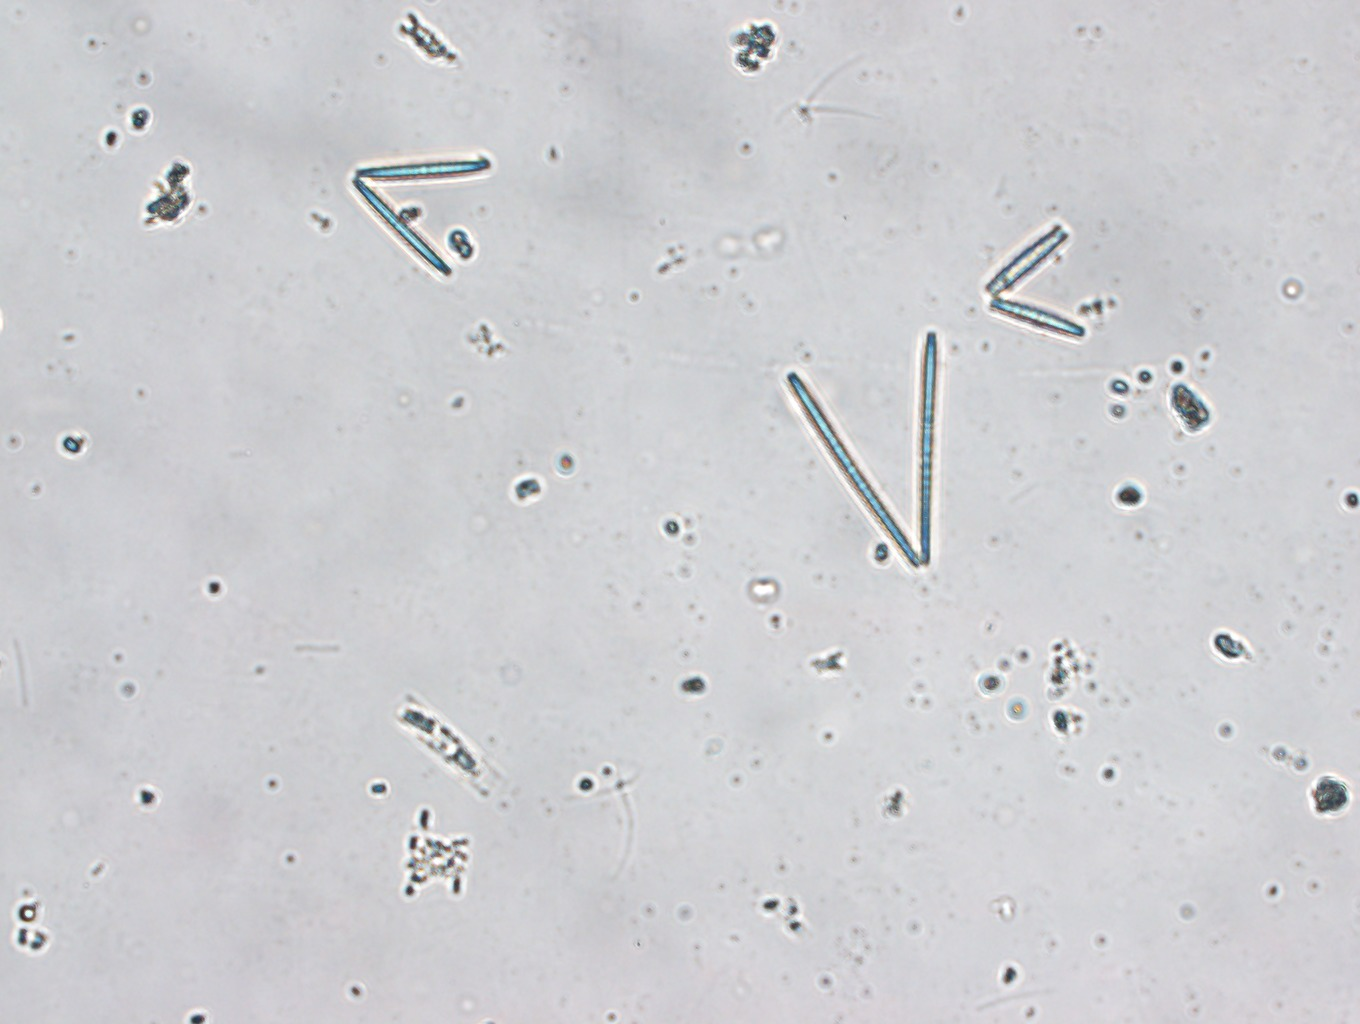thalassionema frauenfeldii: (778, 328, 965, 572), (344, 155, 502, 282), (978, 219, 1100, 353)
